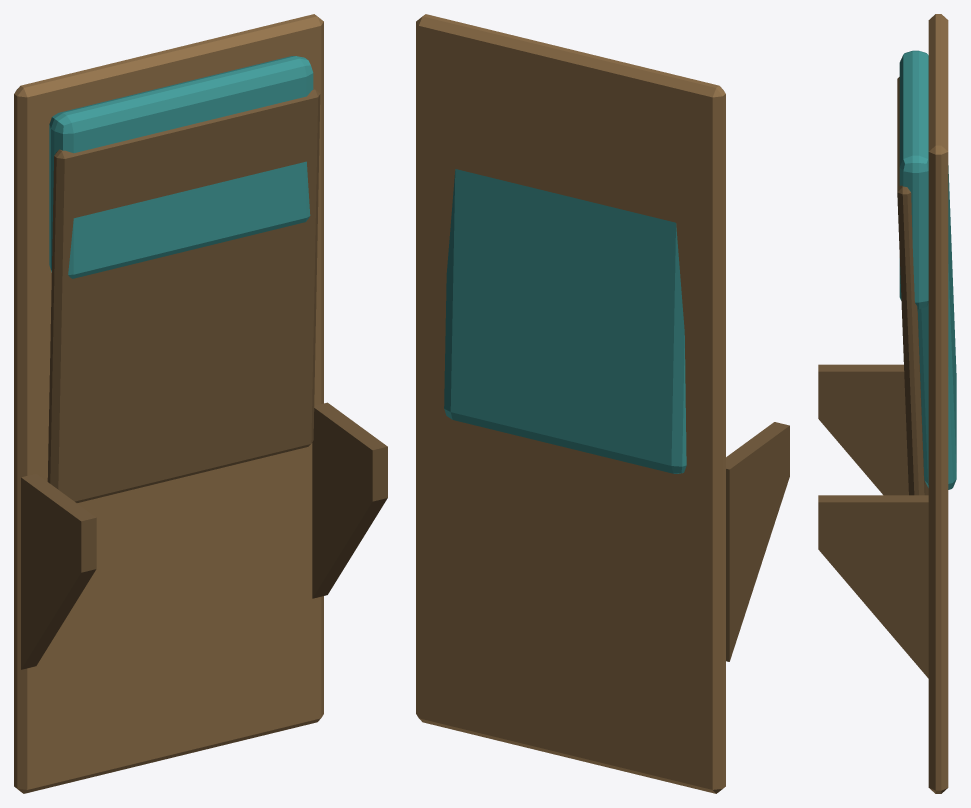
The model's file is wall_folding_seat.glb.
3 renders of one model, left to right at view 1: azimuth 30°, elevation 25°; view 2: azimuth 150°, elevation 25°; view 3: azimuth 270°, elevation 25°, orthographic. The views are drawn at different scales.
Parts seen in each view (by area): view 1: wall_folding_seat_Body, wall_folding_seat_Seat; view 2: wall_folding_seat_Body, wall_folding_seat_Seat; view 3: wall_folding_seat_Body, wall_folding_seat_Seat.
Boxes of the visible parts, box(x1,y1,x2,y2) form: wall_folding_seat_Body: box(14, 14, 387, 793); wall_folding_seat_Seat: box(47, 88, 320, 502); wall_folding_seat_Body: box(416, 14, 789, 793); wall_folding_seat_Seat: box(444, 169, 686, 473); wall_folding_seat_Body: box(818, 14, 948, 793); wall_folding_seat_Seat: box(897, 77, 956, 495).
Bounding box in the file's own units: 0.5 × 1.1 × 0.2131.
